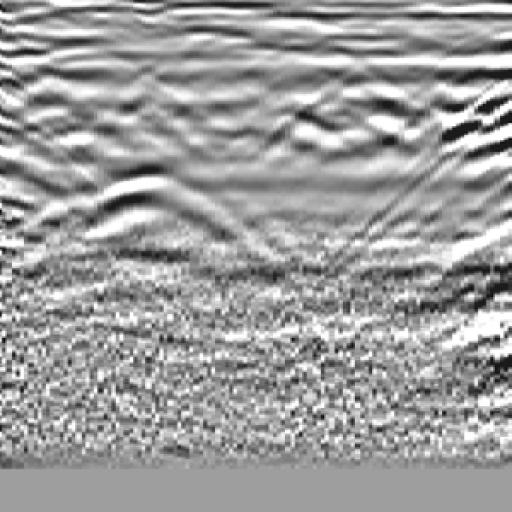metalic: (55, 158, 261, 293)
nonmetalic: (376, 37, 512, 295)
